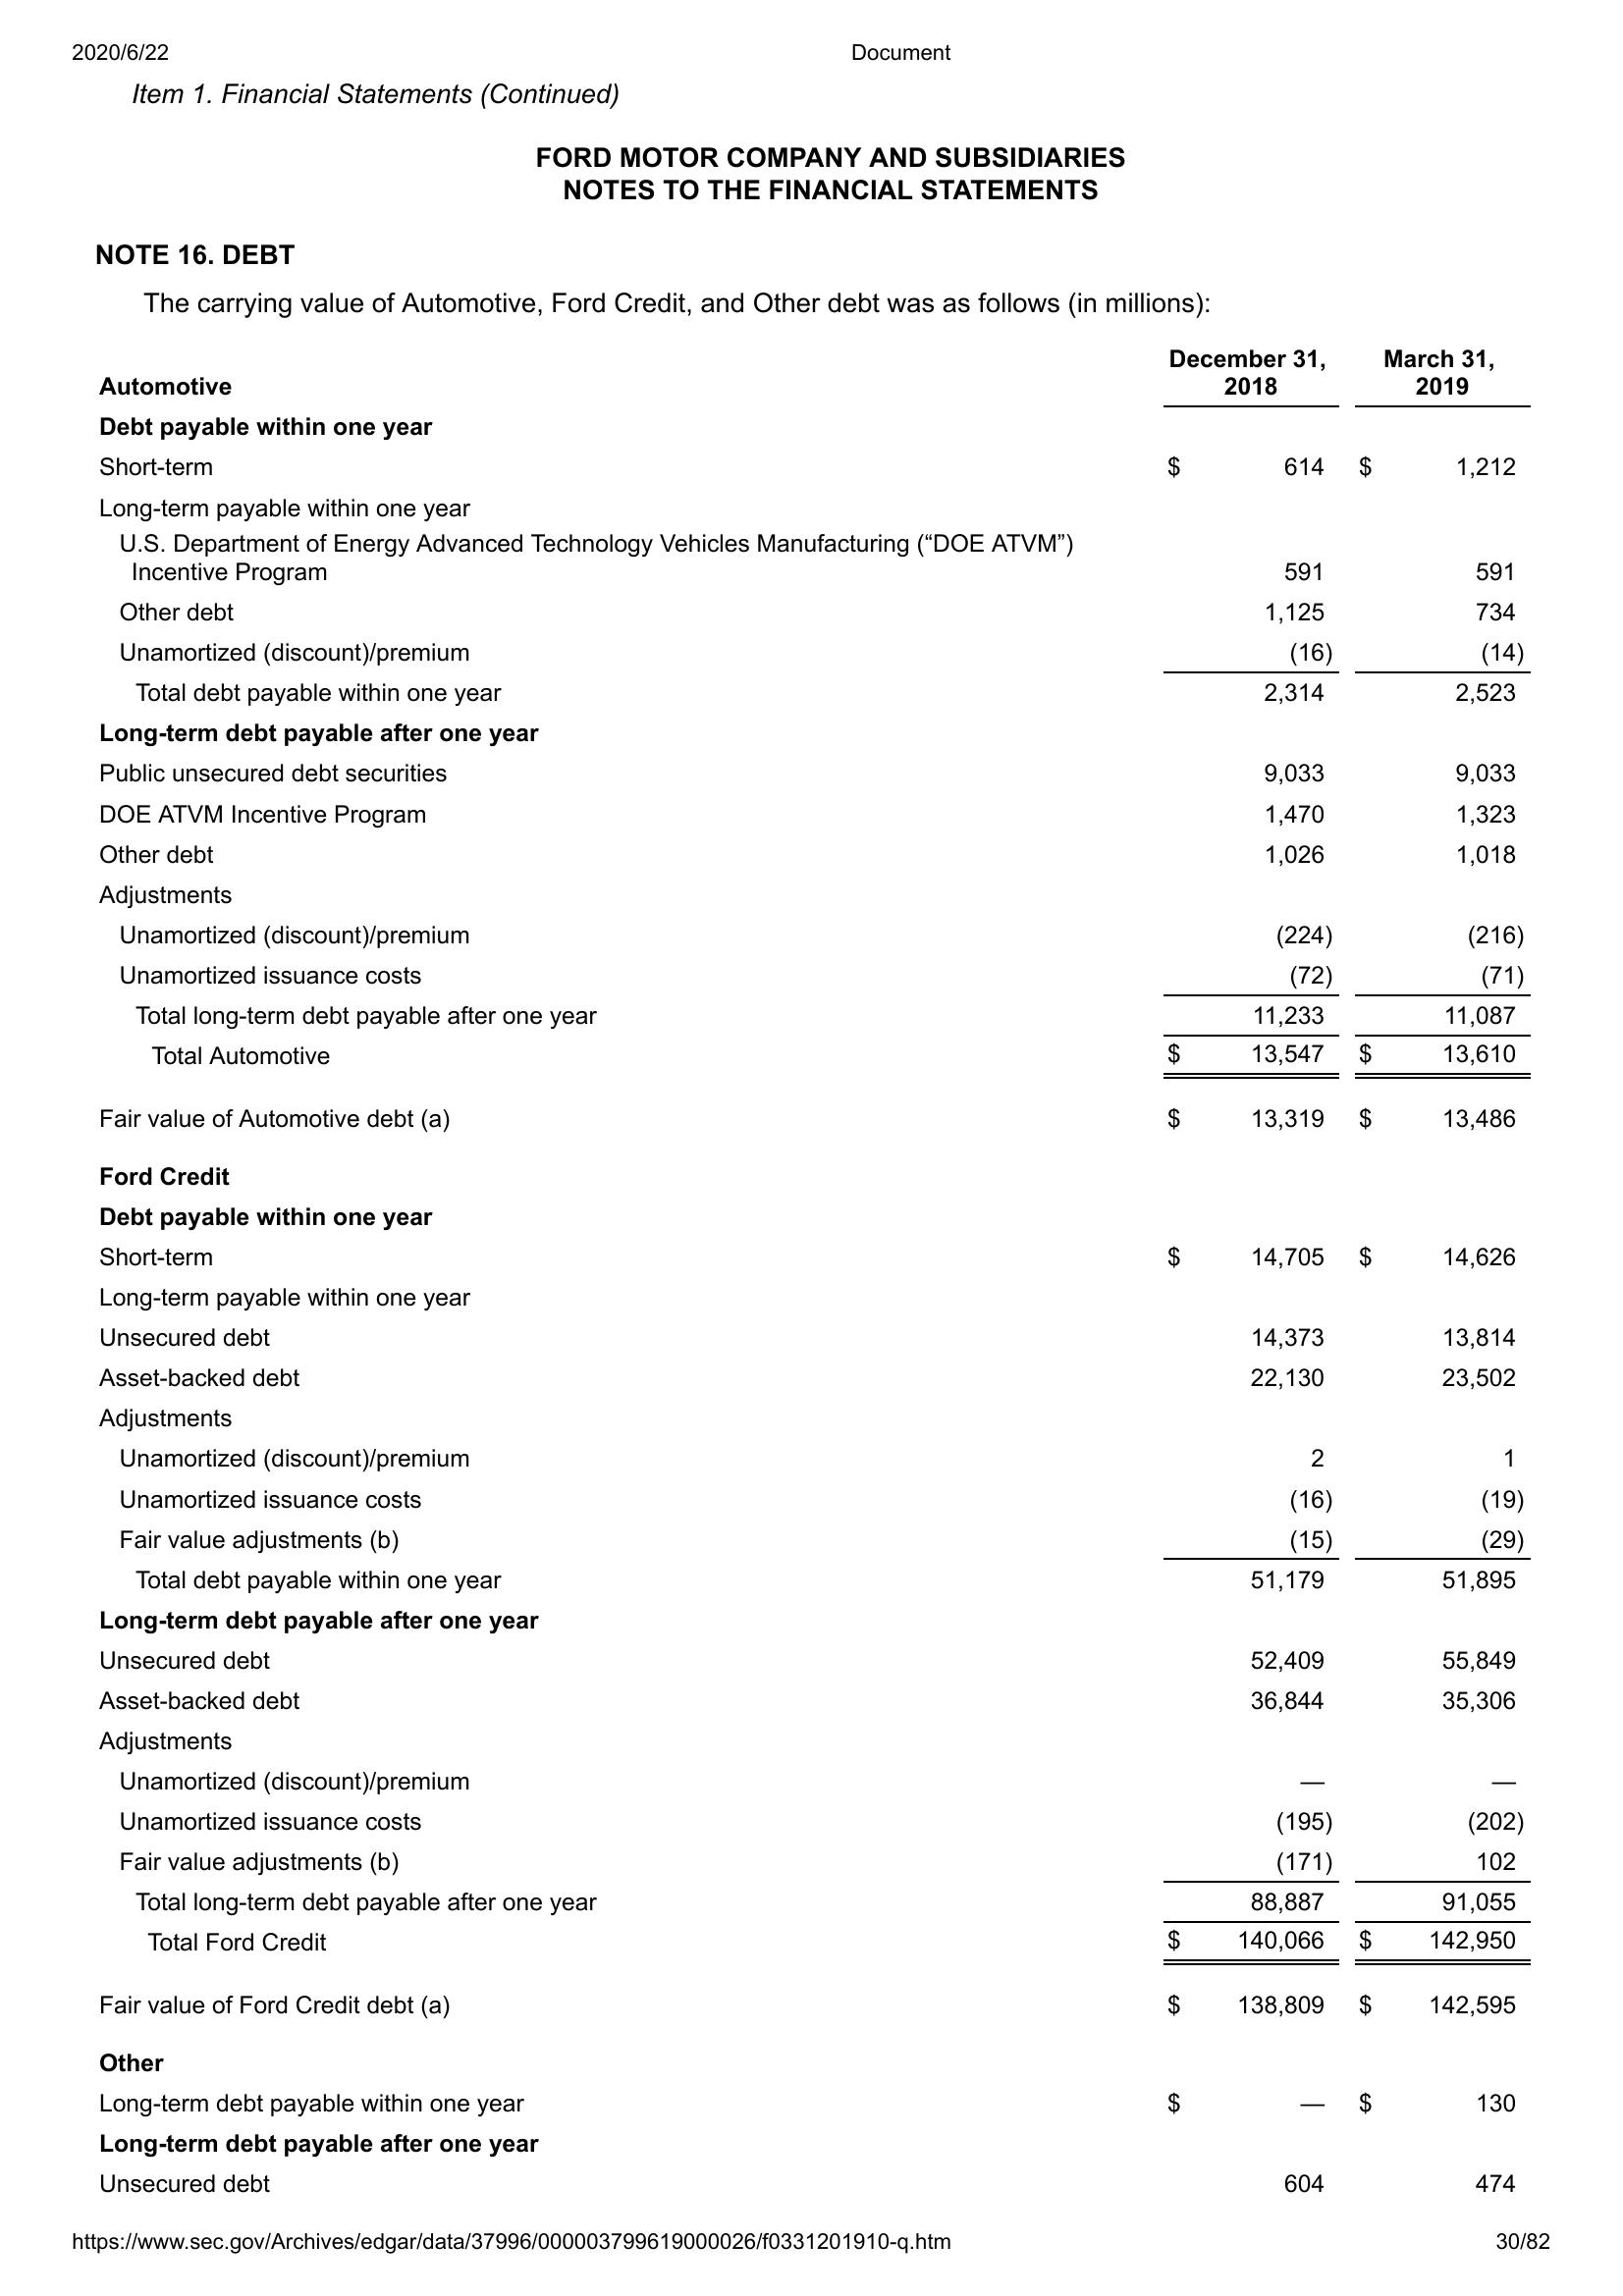table: (84, 339, 1535, 1085), (90, 1143, 1546, 1597), (91, 1604, 1542, 2031), (91, 2043, 1539, 2206)
